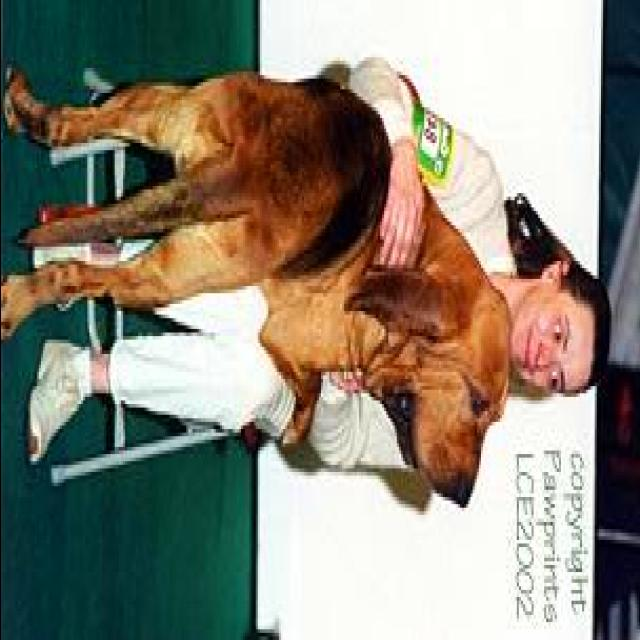bloodhound: (2, 64, 514, 512)
